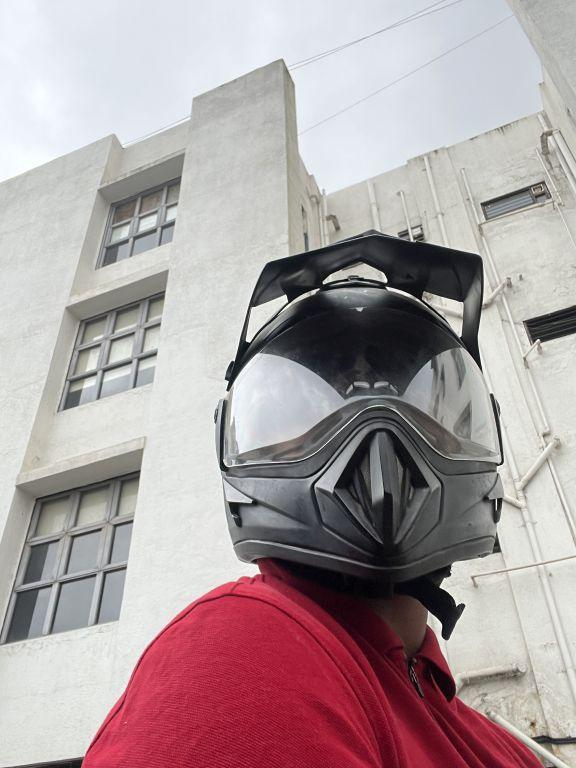helmet: (192, 217, 522, 601)
